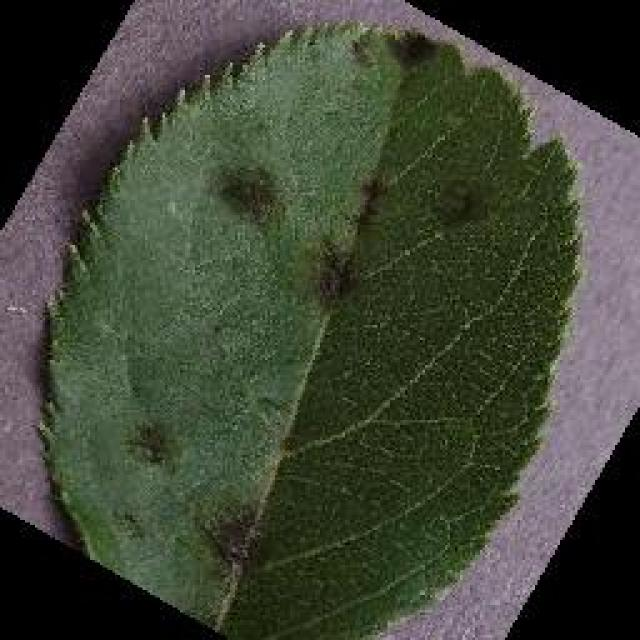apple scab disease: (33, 18, 585, 638)
